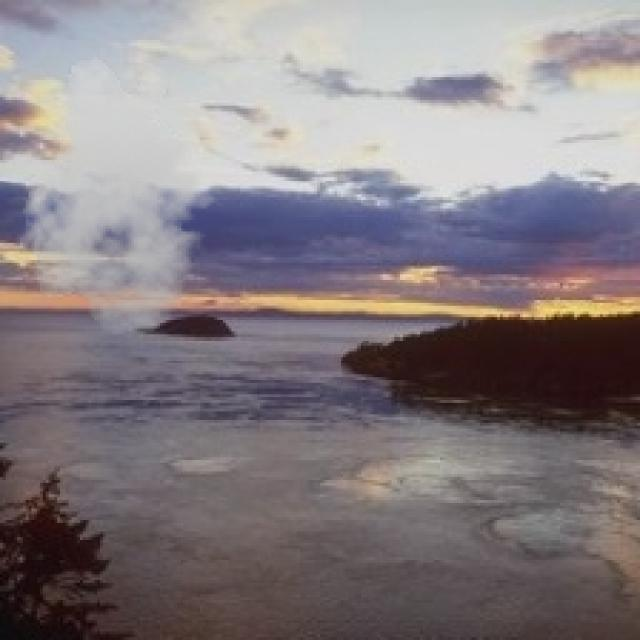smoke: (11, 54, 226, 337)
